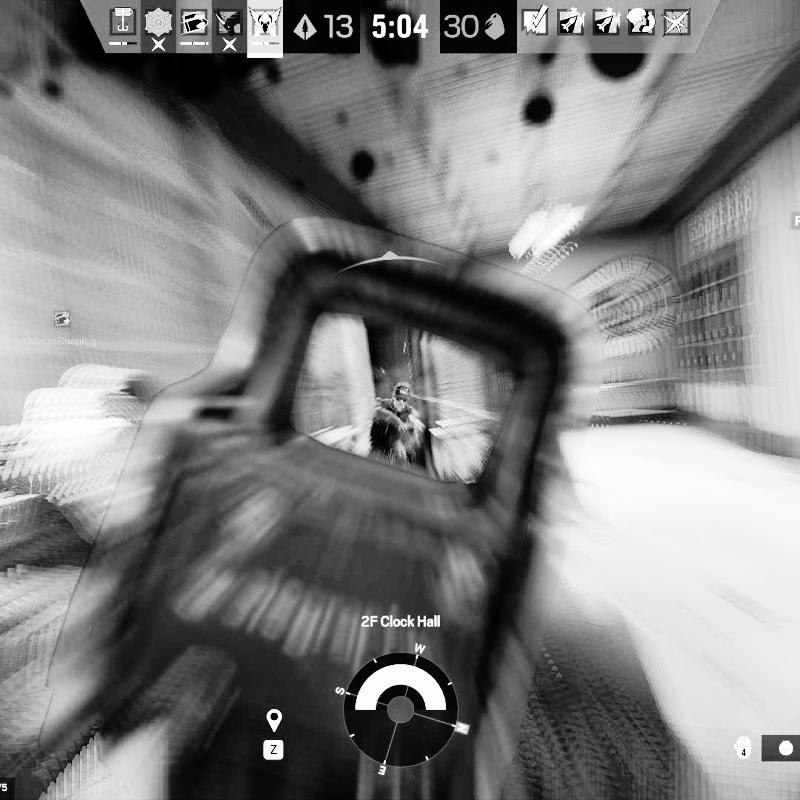Character: (0, 360, 159, 661), (365, 382, 425, 470)
Friend_label: (28, 308, 99, 349)
Head: (63, 365, 145, 403), (390, 383, 412, 413)
